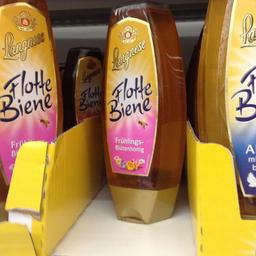honey: (103, 2, 190, 226), (0, 1, 62, 201)
